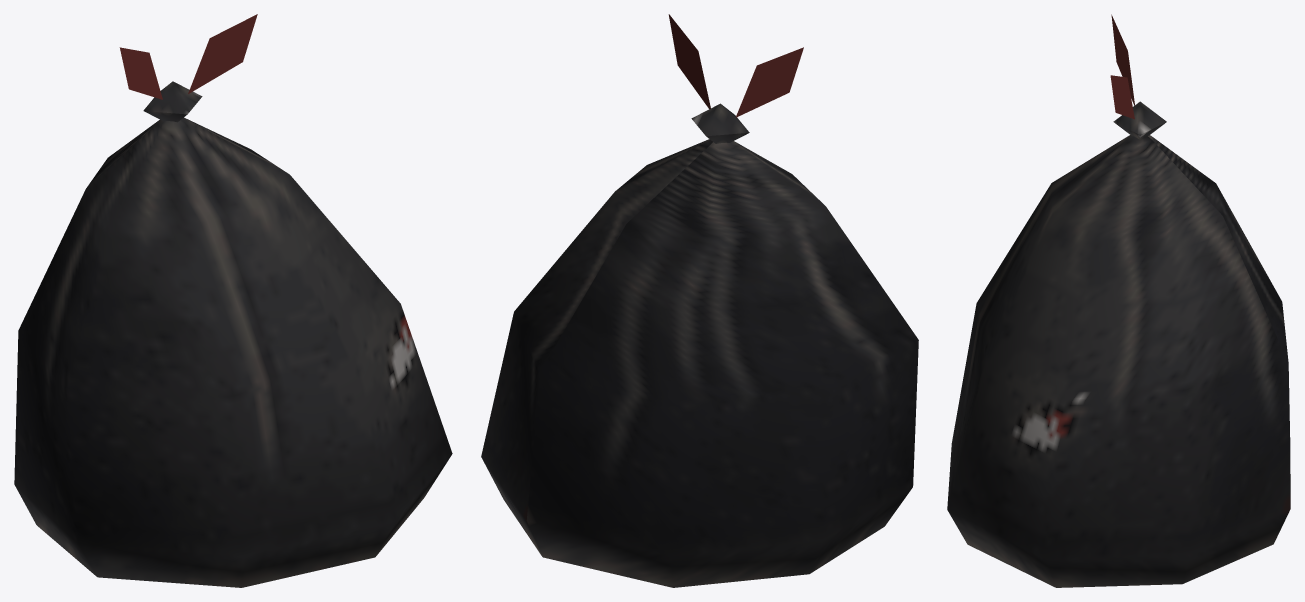
File: SM_Motel_TrashBag.obj
3 renders of one model, left to right at view 1: azimuth 30°, elevation 25°; view 2: azimuth 150°, elevation 25°; view 3: azimuth 270°, elevation 25°, orthographic. The views are drawn at different scales.
Visible parts, largest first — view 1: SM_Motel_TrashBag; view 2: SM_Motel_TrashBag; view 3: SM_Motel_TrashBag.
Part boxes in pixels (left/top/right/bottom): SM_Motel_TrashBag: left=14, top=14, right=452, bottom=587; SM_Motel_TrashBag: left=481, top=14, right=918, bottom=587; SM_Motel_TrashBag: left=947, top=14, right=1290, bottom=587.
Size of the model in its own units: 0.4632 by 0.5741 by 0.3954.
1 material, 1 textured.
